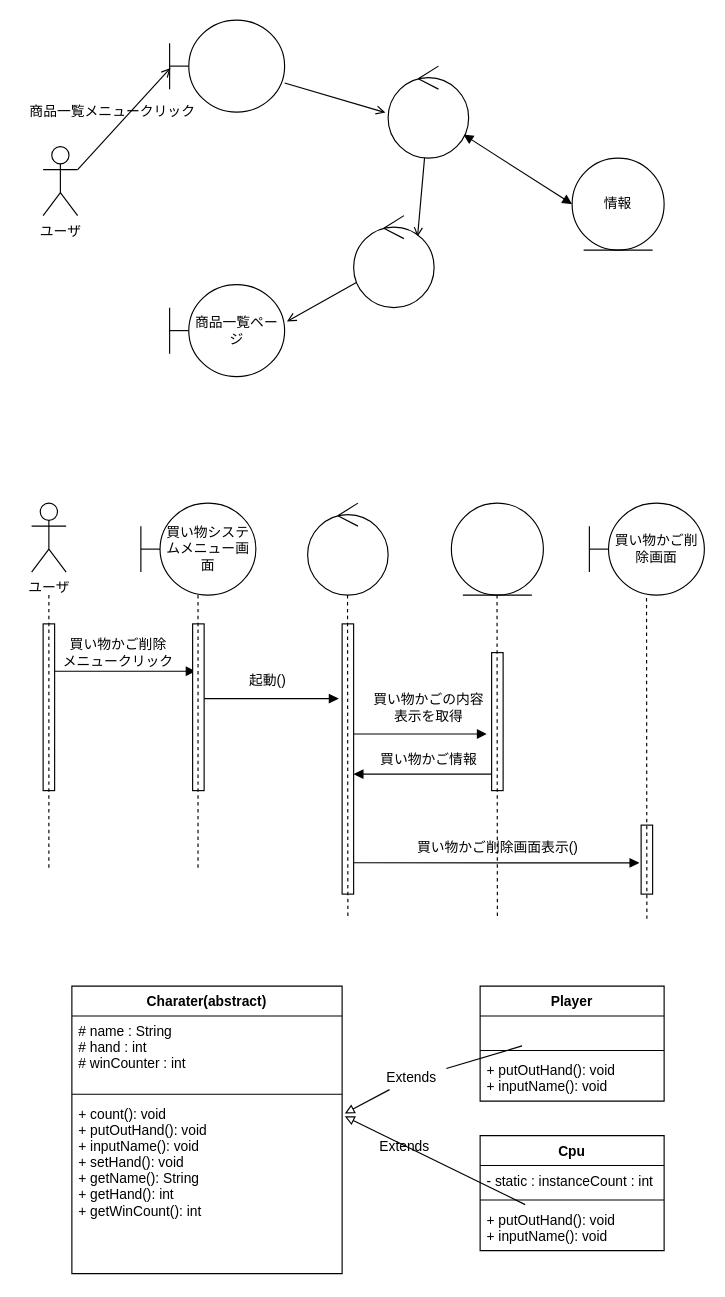
This 725x1297 diagram has some shape labels left out. Here are the shapes that lost their labels. From the top down, the centre of each, then its label:
At (226,65): "メニュー画面".
At (428,111): "商品一覧取得処理".
At (393,261): "ページ移動処理".
At (347,548): "買い物かご削除画面表示".
At (496,548): "買い物かご".
